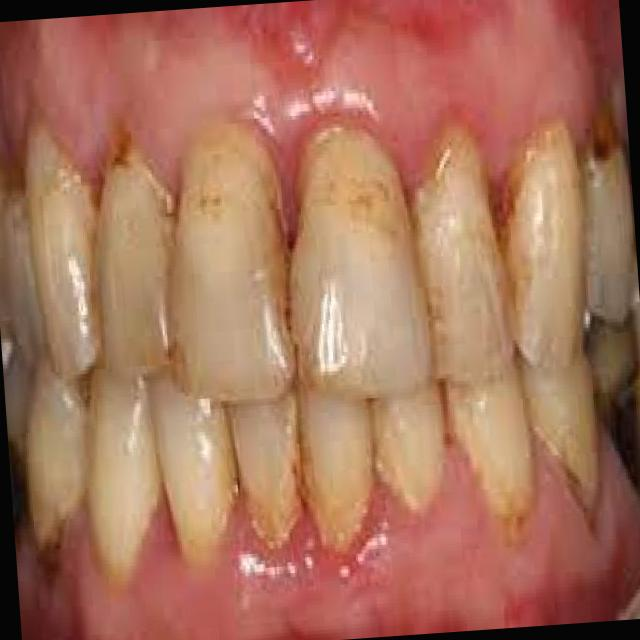calculus: (154, 124, 298, 404), (304, 116, 422, 377), (493, 84, 595, 358), (92, 90, 175, 374), (420, 135, 507, 383), (367, 362, 461, 556), (458, 363, 541, 550), (304, 390, 382, 571), (232, 389, 306, 569)
